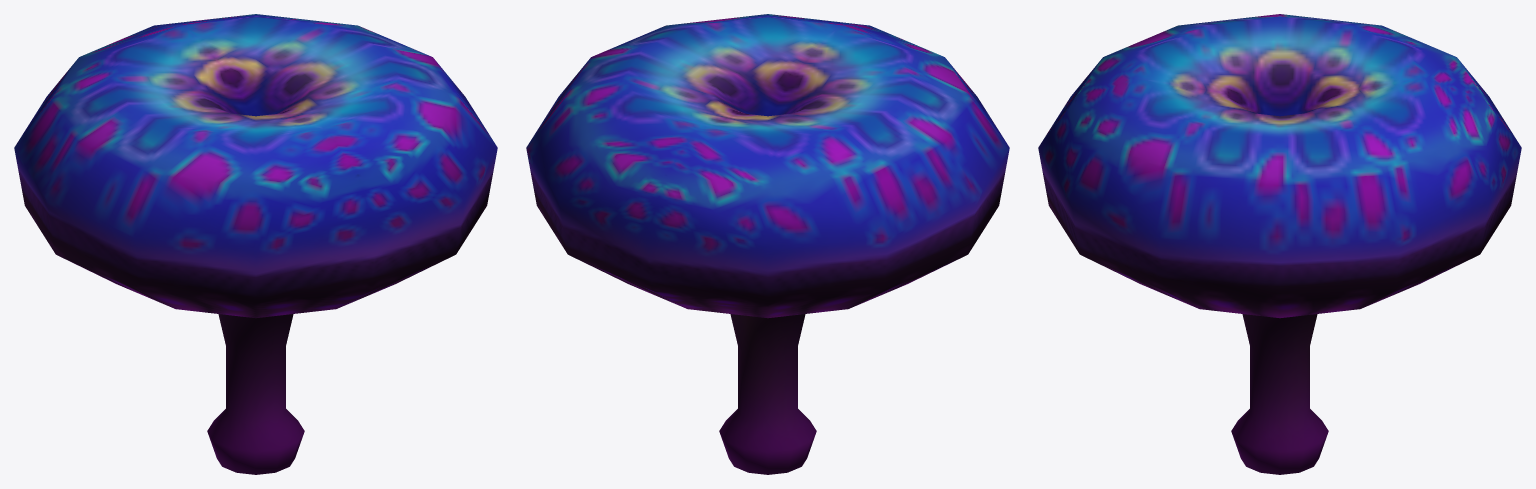
File: Mushroom_05b.FBX
The picture shows the model from 3 angles, left to right: view 1: azimuth 30°, elevation 25°; view 2: azimuth 150°, elevation 25°; view 3: azimuth 270°, elevation 25°; orthographic projection.
Parts seen in each view (by area): view 1: Mushroom_05b; view 2: Mushroom_05b; view 3: Mushroom_05b.
Part boxes in pixels (left/top/right/bottom): Mushroom_05b: left=14, top=14, right=497, bottom=474; Mushroom_05b: left=526, top=14, right=1009, bottom=474; Mushroom_05b: left=1038, top=14, right=1521, bottom=474.
Size of the model in its own units: 161 by 144 by 161.
